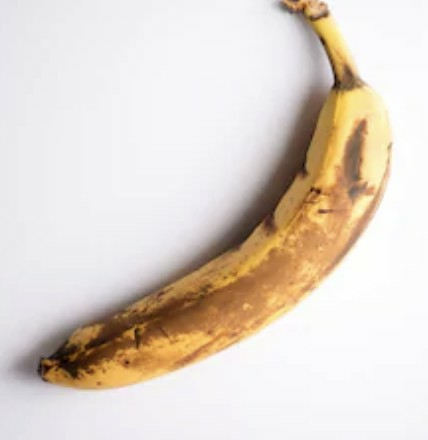rotten_banana: (37, 15, 393, 388)
